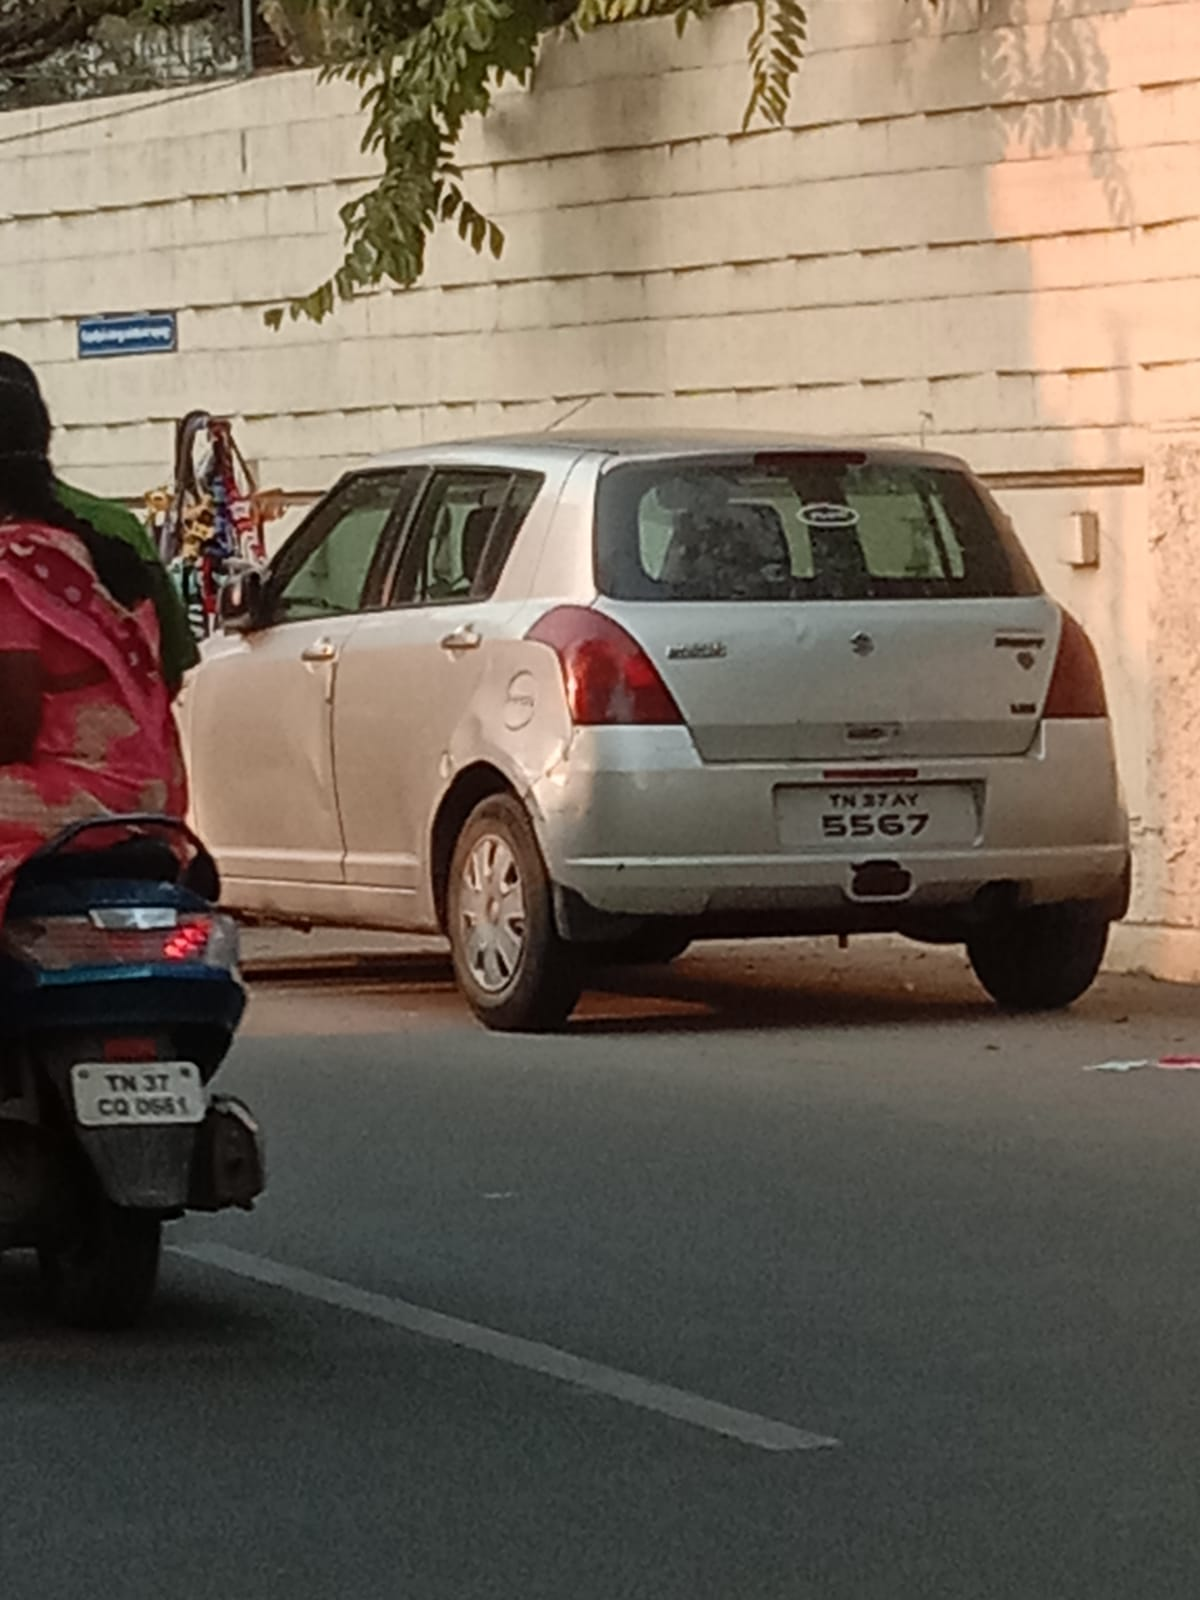car: (180, 424, 1165, 1048)
numberplate: (770, 777, 989, 850), (68, 1062, 204, 1124)
scooter: (21, 810, 280, 1339)
